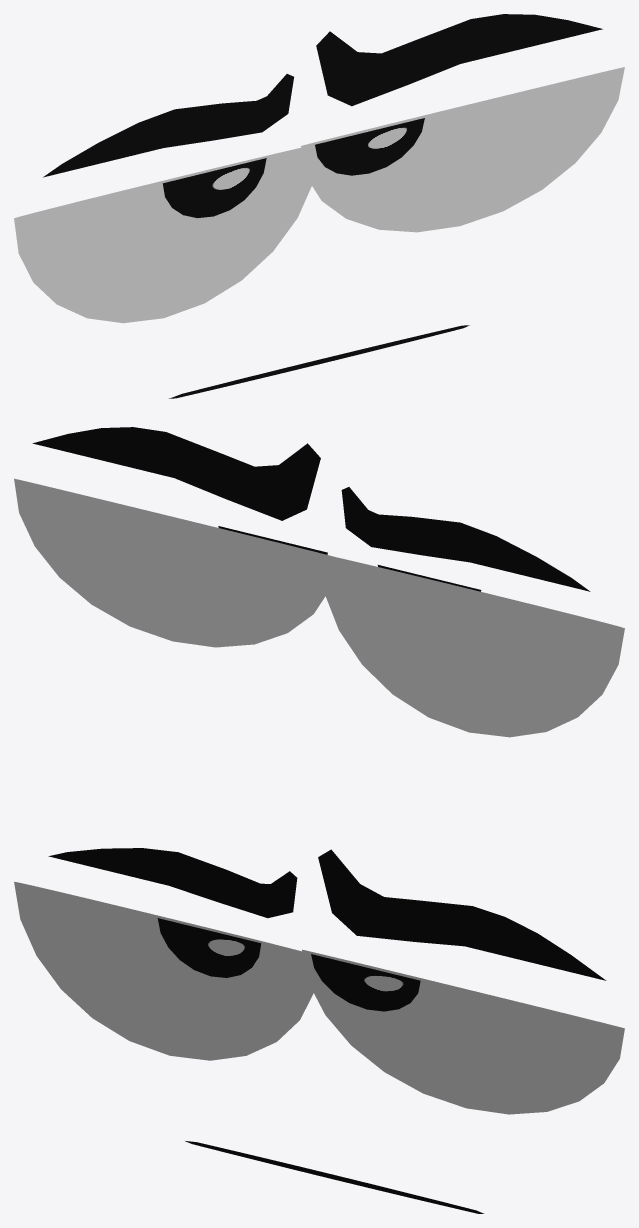
File: NL_hideidle3.FBX
The picture shows the model from 3 angles, top to bottom: view 1: azimuth 30°, elevation 25°; view 2: azimuth 150°, elevation 25°; view 3: azimuth 330°, elevation 25°; orthographic projection.
Visible parts, largest first — view 1: EYES, MOUTH; view 2: EYES; view 3: EYES, MOUTH.
Boxes of the visible parts, x1,y1,x2,y2 form: EYES: [14, 14, 624, 323]; MOUTH: [169, 325, 469, 398]; EYES: [14, 427, 624, 737]; EYES: [14, 848, 624, 1114]; MOUTH: [185, 1141, 483, 1213].
Bounding box in the file's own units: 49.96 × 26.31 × 1.46.
